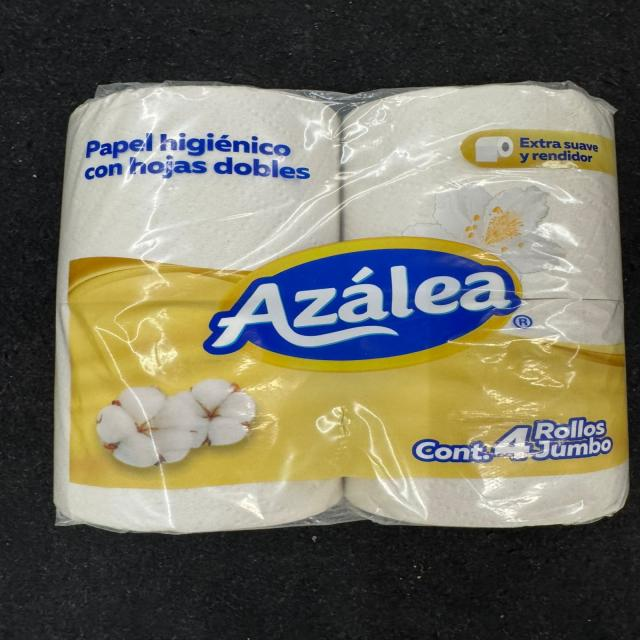PAPEL HIGIENICO AZALEA 4 ROLLOS 350 HOJAS: (48, 76, 633, 539)
